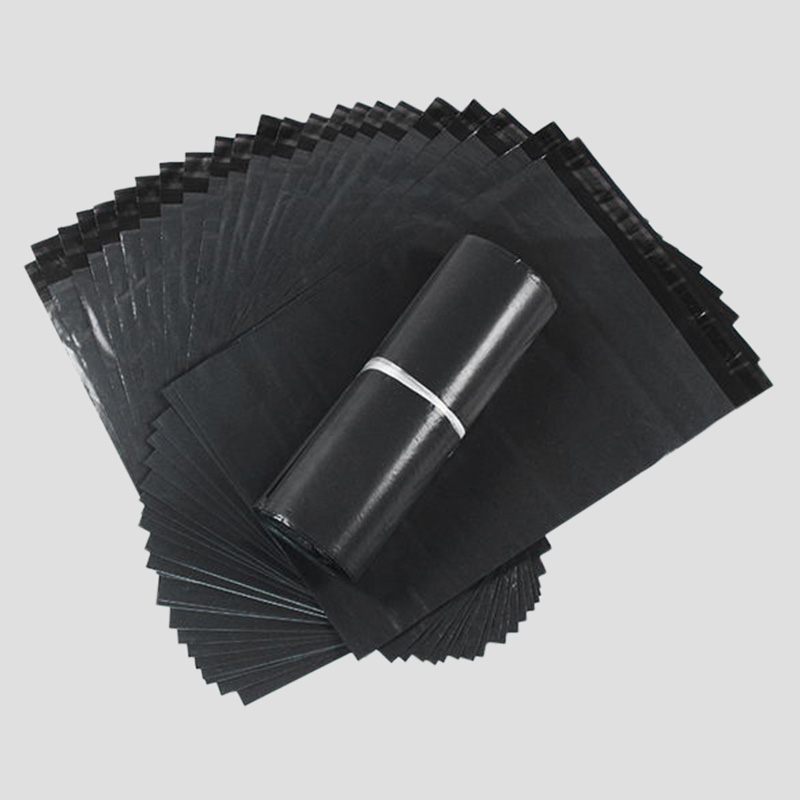塑料袋: (26, 100, 770, 703)
